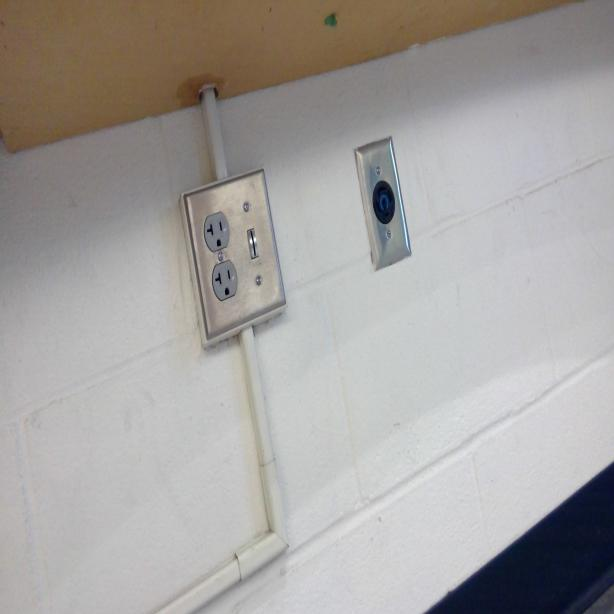typeb: (212, 260, 238, 297), (204, 213, 229, 250)
